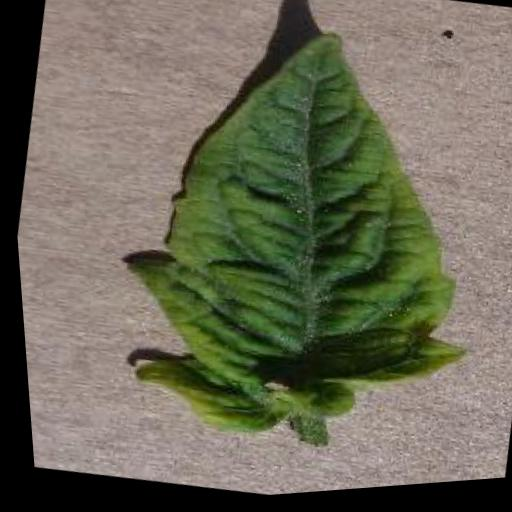Yellow Leaf Curl Virus: (81, 0, 512, 488)
